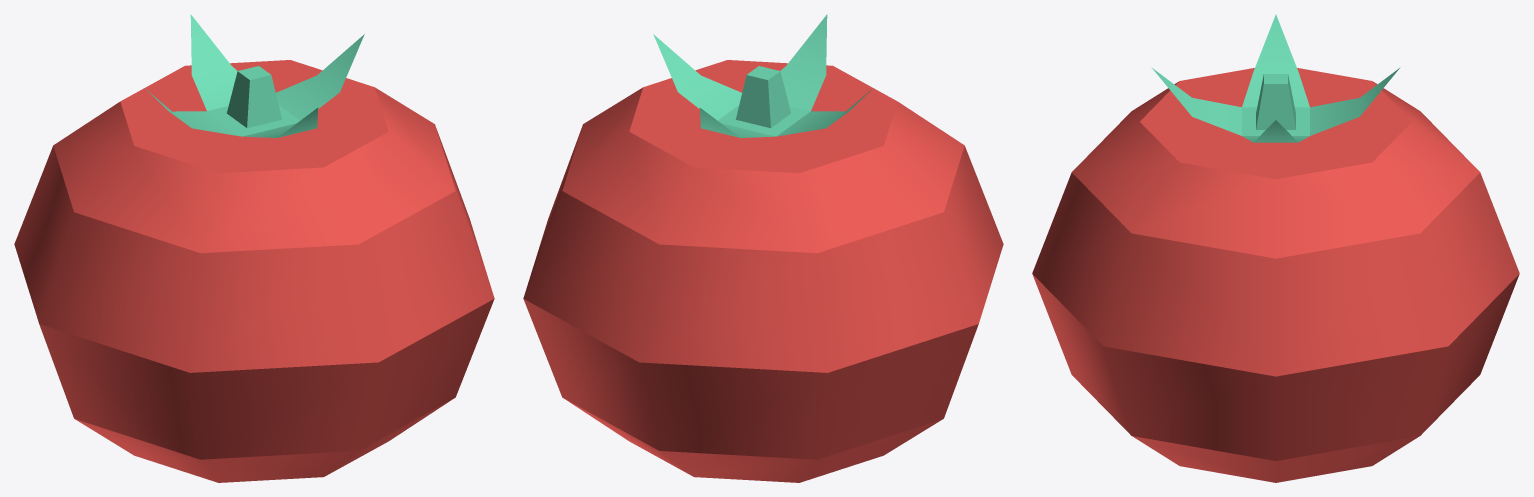
The model's file is Tomato.glb.
3 renders of one model, left to right at view 1: azimuth 30°, elevation 25°; view 2: azimuth 150°, elevation 25°; view 3: azimuth 270°, elevation 25°, orthographic.
Parts seen in each view (by area): view 1: Tomato; view 2: Tomato; view 3: Tomato.
Part boxes in pixels (x1,y1,x2,y2): Tomato: (14,14,494,482); Tomato: (523,14,1003,482); Tomato: (1032,14,1519,482).
Bounding box in the file's own units: 0.1697 × 0.1377 × 0.1697.
